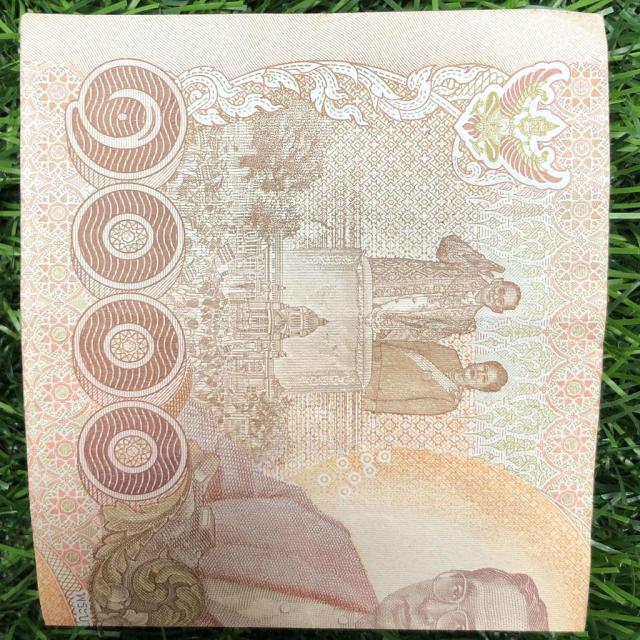THAI1000: (16, 7, 614, 638)
